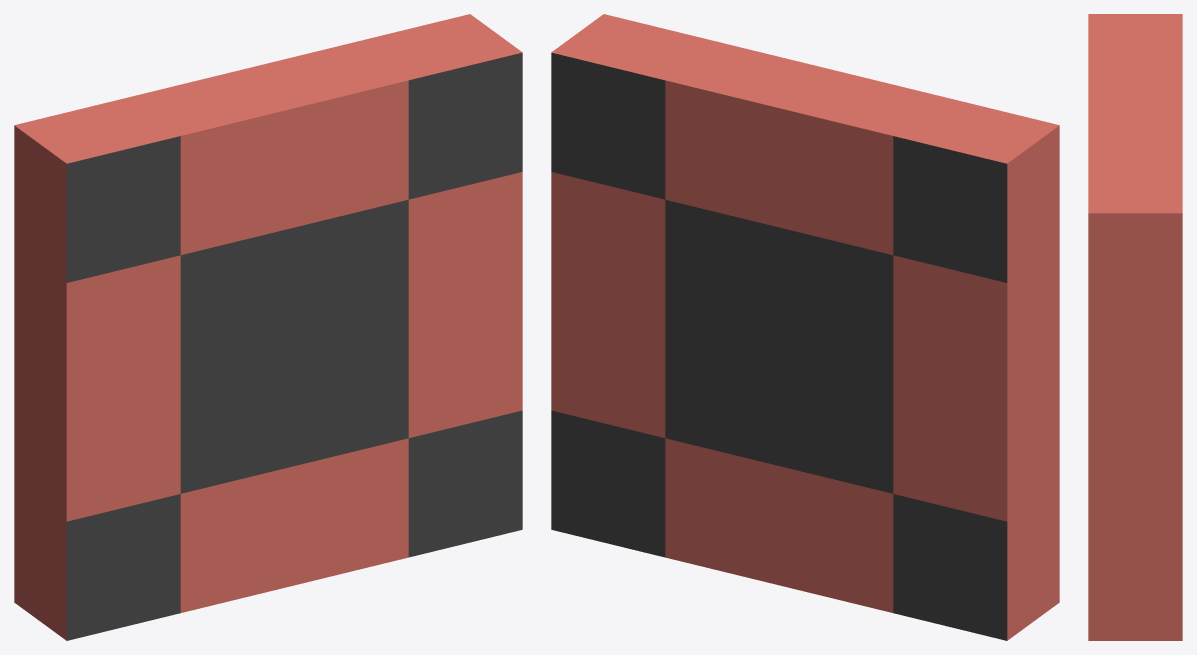
The model's file is ability_1.glb.
3 views of the same model, side by side, from view 1: azimuth 30°, elevation 25°; view 2: azimuth 150°, elevation 25°; view 3: azimuth 270°, elevation 25° (orthographic). The views are drawn at different scales.
Visible parts, largest first — view 1: Cube; view 2: Cube; view 3: Cube.
Part boxes in pixels (<box>): Cube: <box>14,14,522,640</box>; Cube: <box>551,14,1059,640</box>; Cube: <box>1088,14,1182,640</box>.
Bounding box in the file's own units: 1 × 1 × 0.2.
